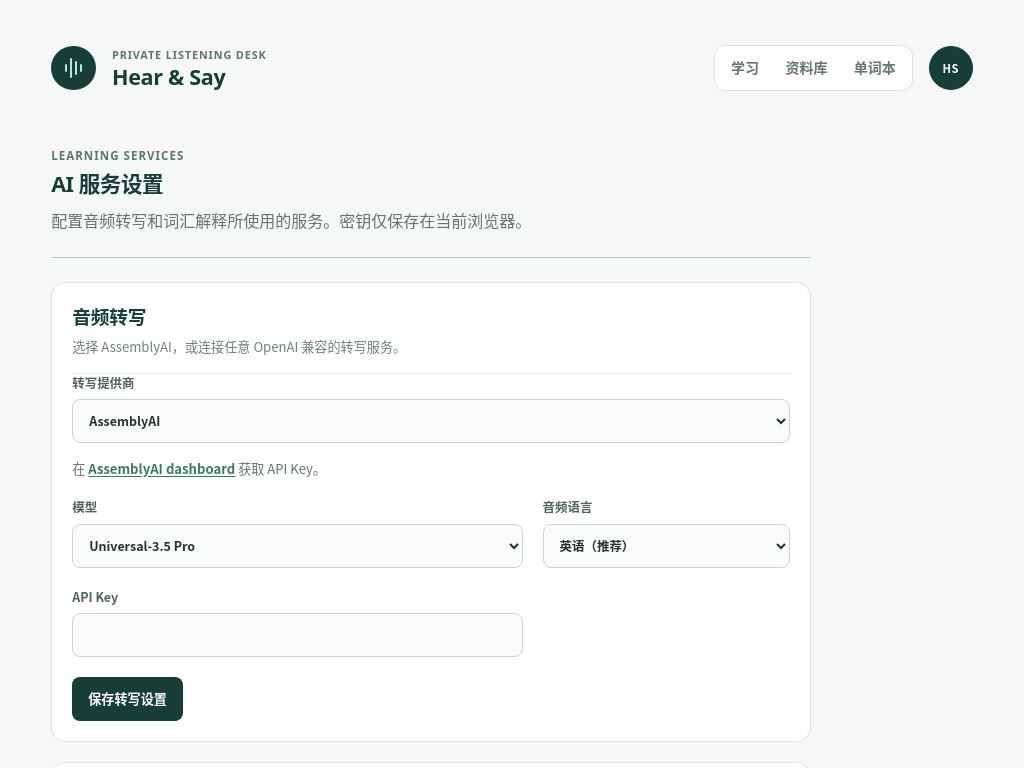
Test case: App › routes first open to settings and keeps transcription disabled until valid configuration is saved
This screenshot has width=1024, height=768.
Check: the heading "Hear & Say" is shown, box [112, 62, 226, 91]
Check: the heading "AI 服务设置" is shown, box [51, 169, 163, 198]
Click the link "资料库" at coordinates (806, 68), box [785, 58, 827, 78]
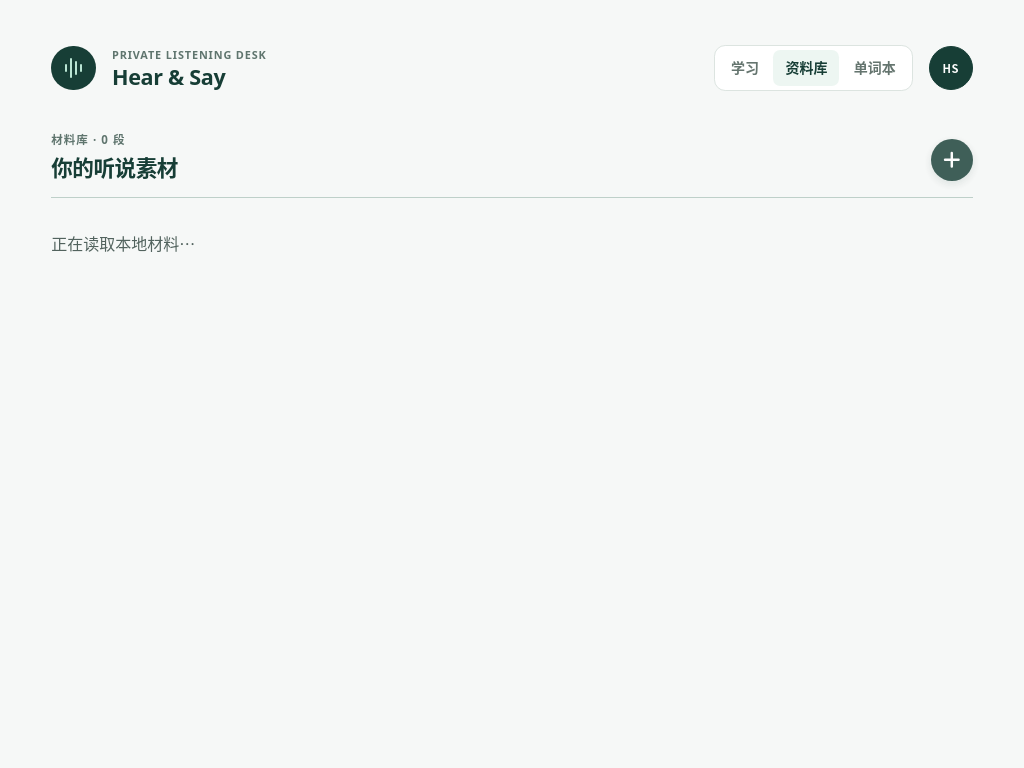
Check: the file field named "选择音频文件" is disabled, box [931, 138, 973, 180]
Click the button with aria-label "打开个人菜单" at coordinates (951, 68), box [929, 46, 973, 90]
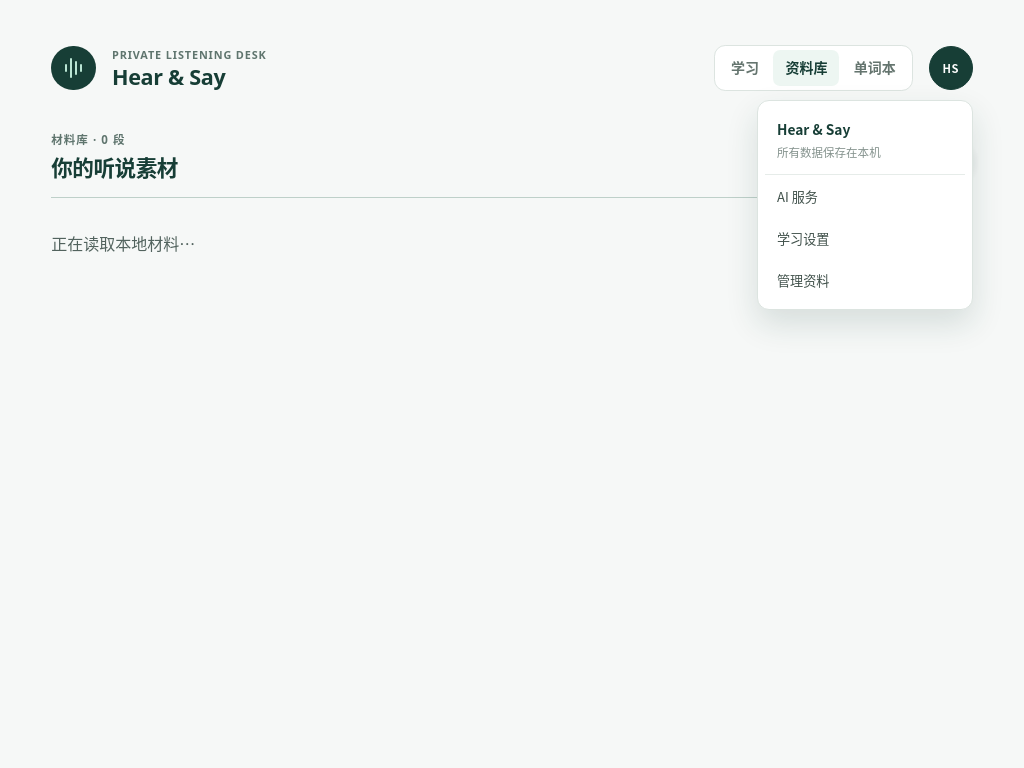
Click the menu item "AI 服务" at coordinates (798, 196), box [777, 187, 818, 206]
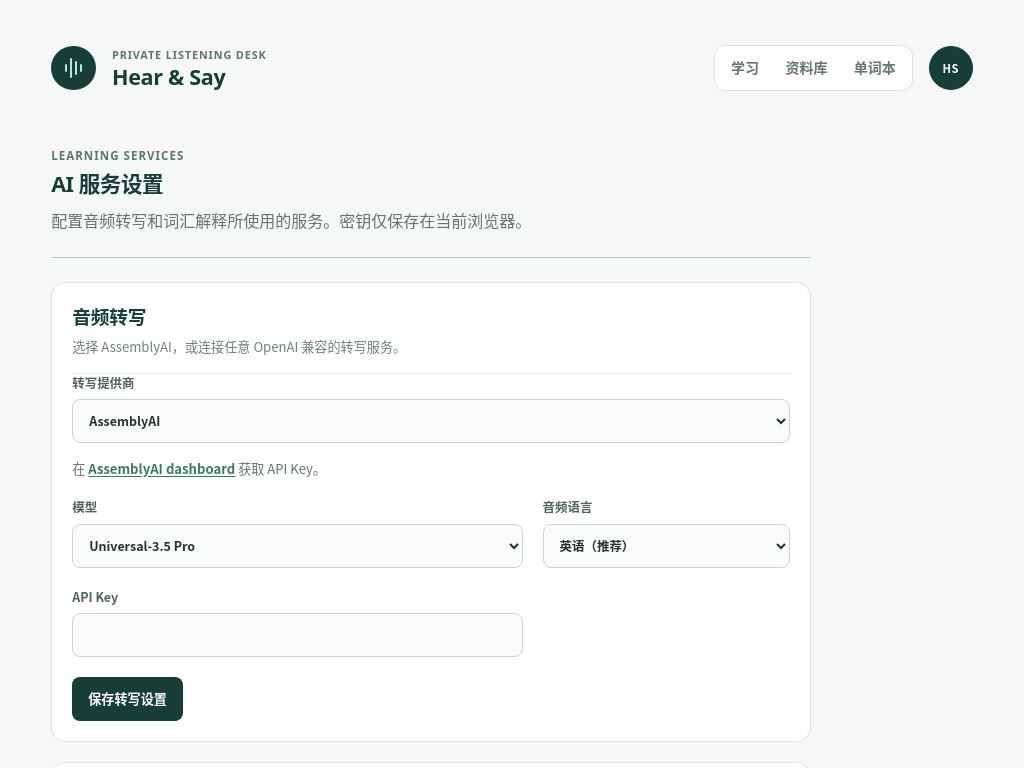
Type "assembly-key" into the password field labelled "API Key" at coordinates (297, 635), box [72, 613, 522, 657]
Click the button "保存转写设置" at coordinates (128, 699), box [72, 677, 183, 722]
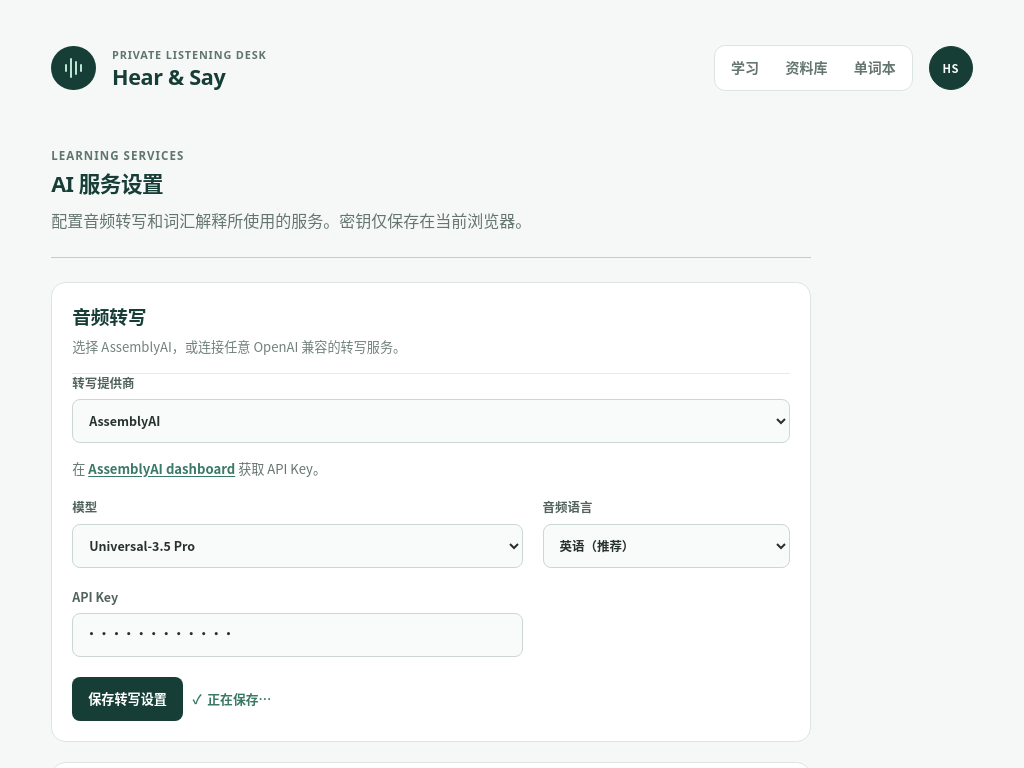
Check: the message "正在保存…" is shown, box [192, 690, 271, 709]
Click the link "资料库" at coordinates (806, 68), box [785, 58, 827, 78]
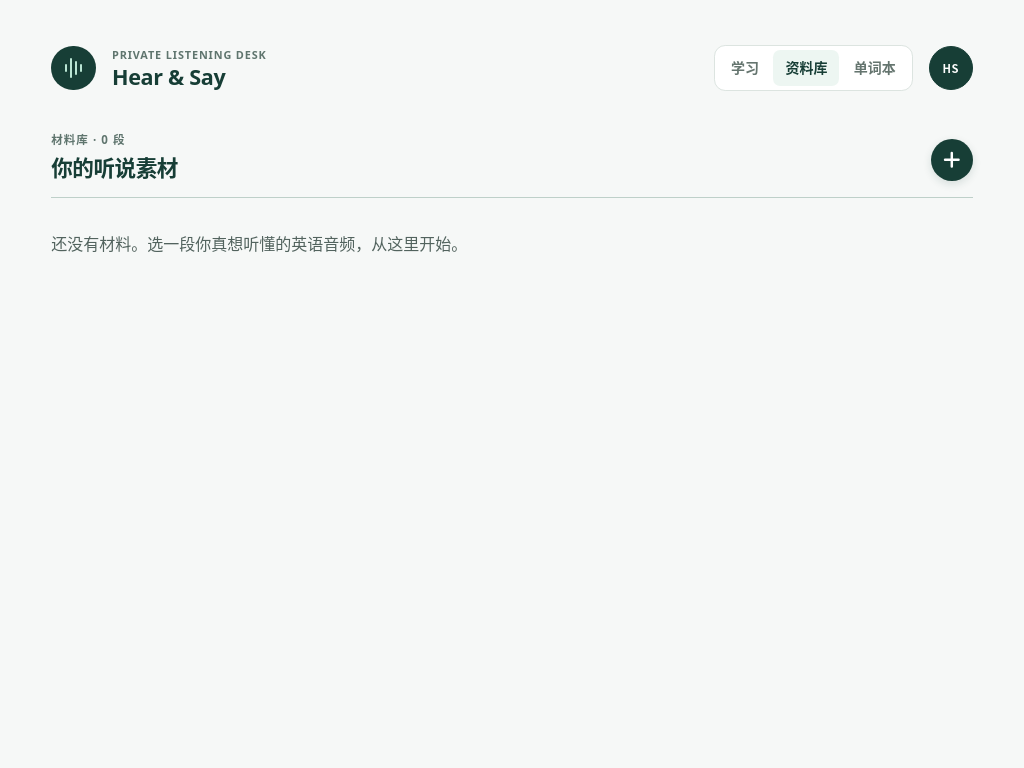
Check: the file field named "选择音频文件" is enabled, box [931, 138, 973, 180]
Check: the text "还没有材料。选一段你真想听懂的英语音频，从这里开始。" is shown, box [51, 230, 467, 254]
Click the link "单词本" at coordinates (875, 68), box [854, 58, 896, 78]
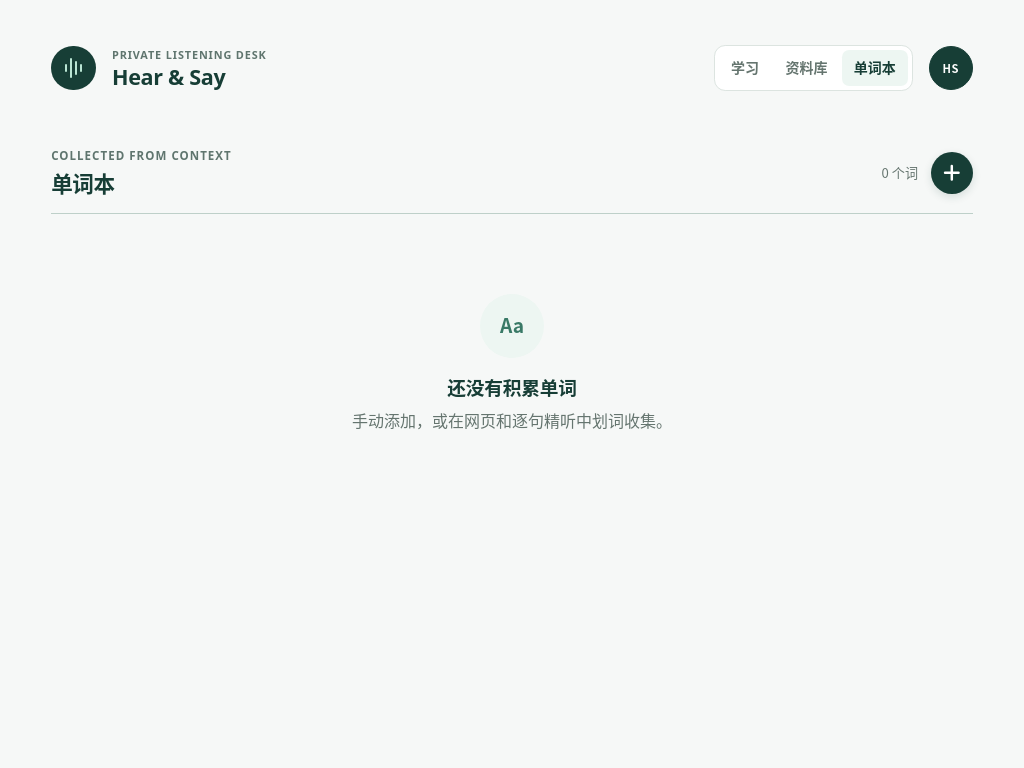
Check: the heading "单词本" is shown, box [51, 169, 115, 198]
Check: the heading "还没有积累单词" is shown, box [447, 374, 577, 402]
